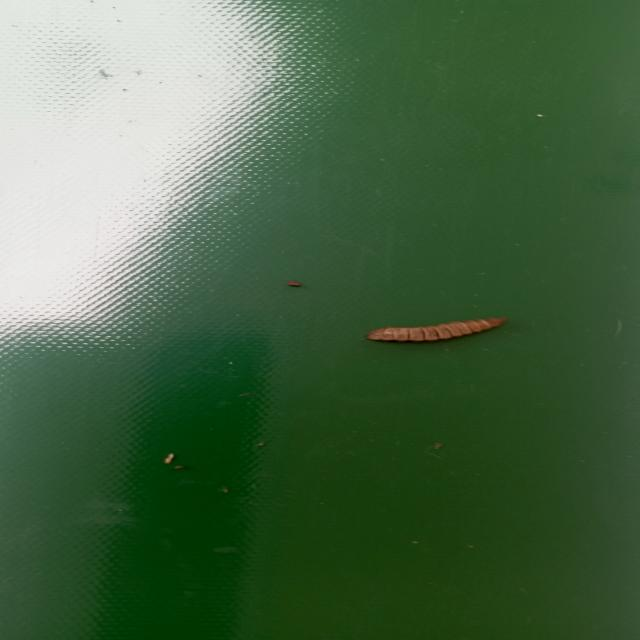Maggot: (368, 319, 509, 346)
